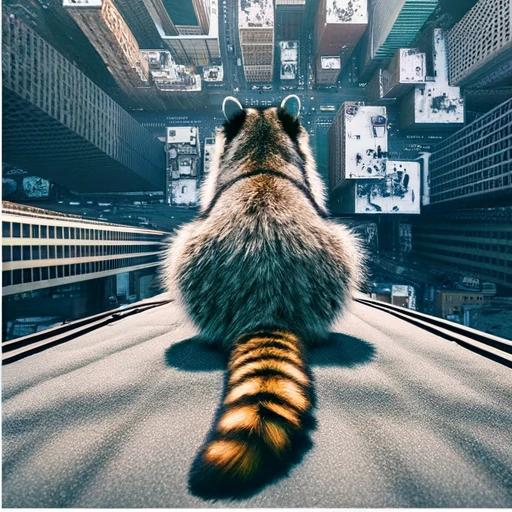raccoon: (150, 89, 377, 511)
